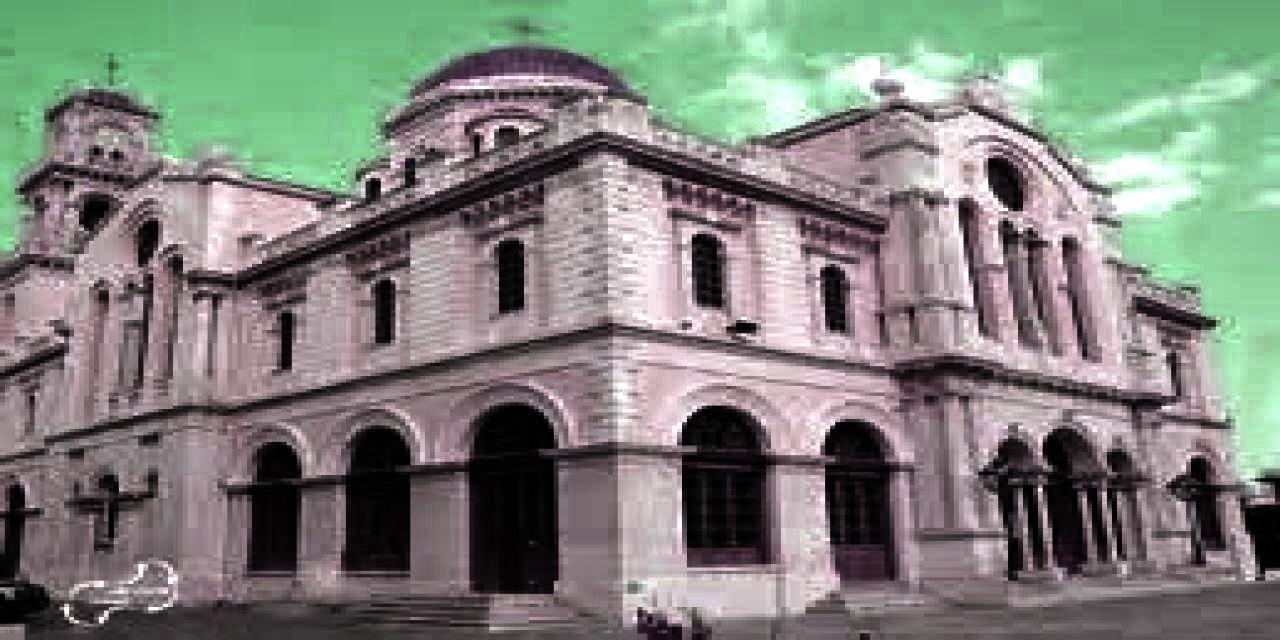Agios Minas: (1, 19, 1257, 630)
